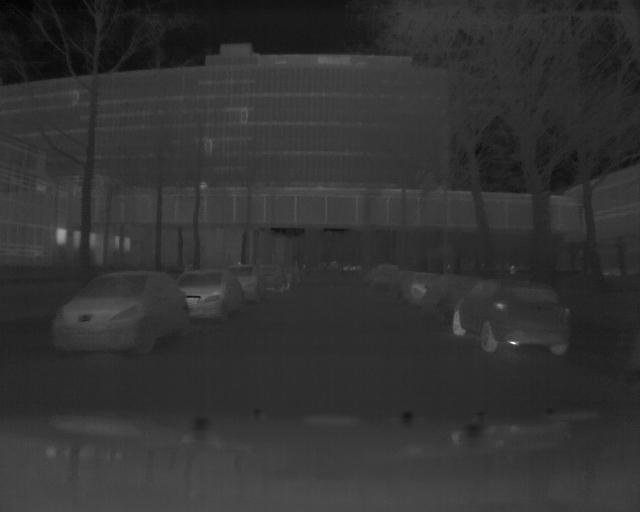car: (54, 265, 189, 353), (451, 275, 575, 359), (178, 264, 240, 319)
